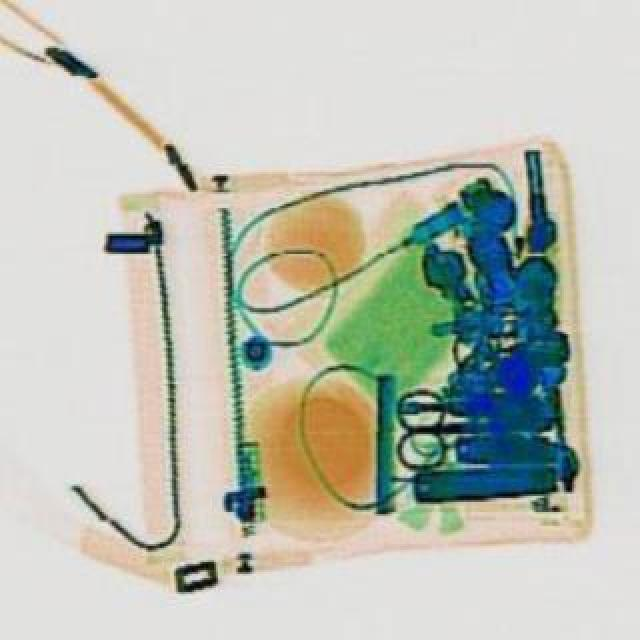pliers: (390, 380, 550, 468)
